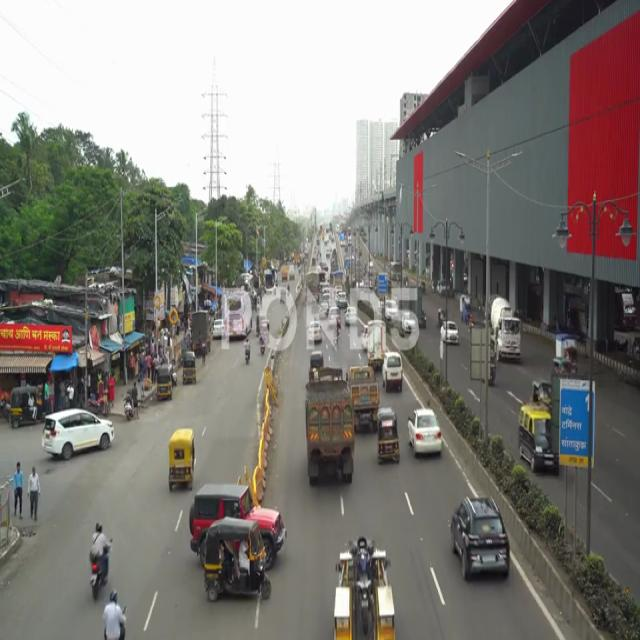cab: (514, 399, 558, 480)
car: (184, 482, 294, 572), (448, 492, 511, 585), (43, 414, 116, 458), (407, 408, 442, 459), (382, 354, 403, 393), (448, 318, 459, 349)
motorbike: (84, 511, 111, 598)
person: (11, 457, 24, 521), (27, 465, 40, 522)
rikshaw: (200, 518, 276, 606), (167, 426, 196, 488), (377, 409, 400, 466)
truck: (328, 526, 400, 640), (305, 369, 354, 484), (492, 293, 524, 362), (350, 360, 380, 427)
